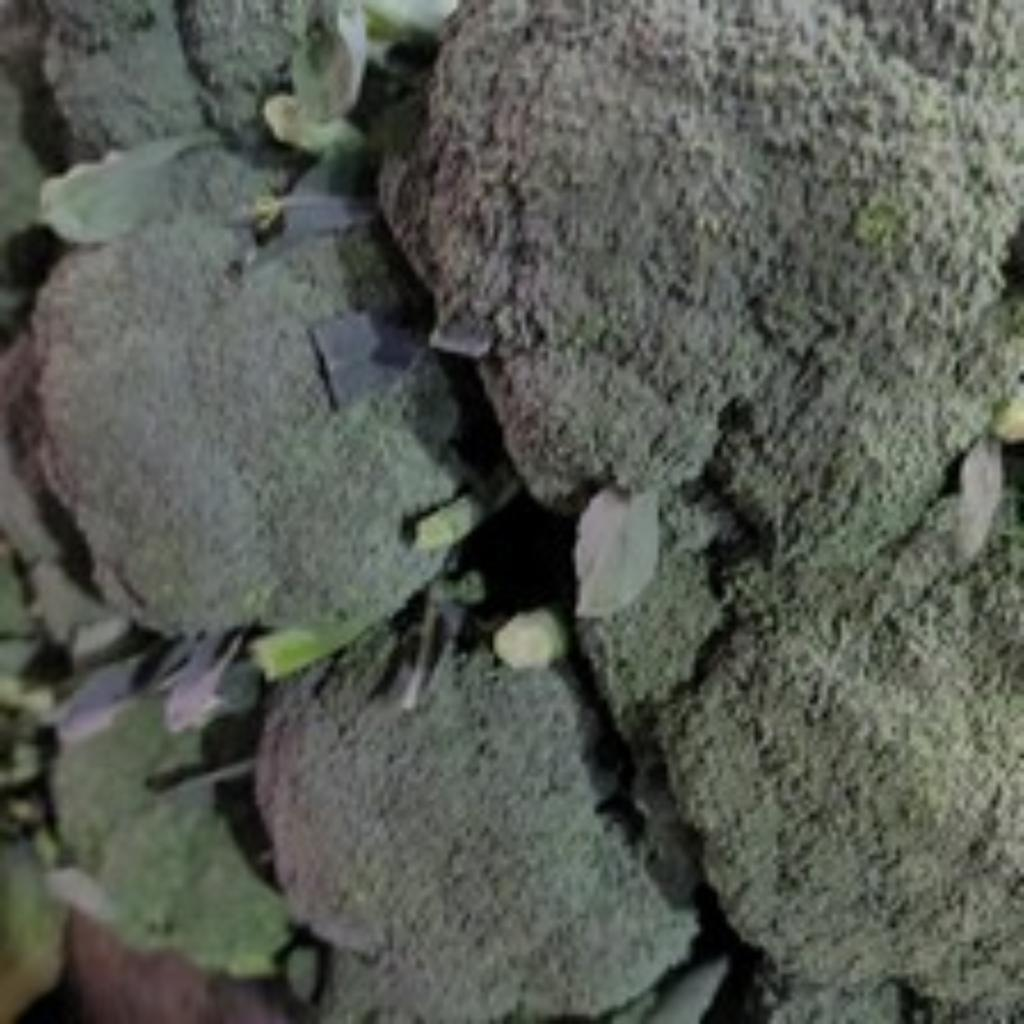Broccoli: (384, 0, 1024, 1023), (384, 1, 1024, 1024), (32, 154, 466, 631), (32, 196, 466, 631), (256, 596, 696, 1024), (258, 606, 696, 1024)
